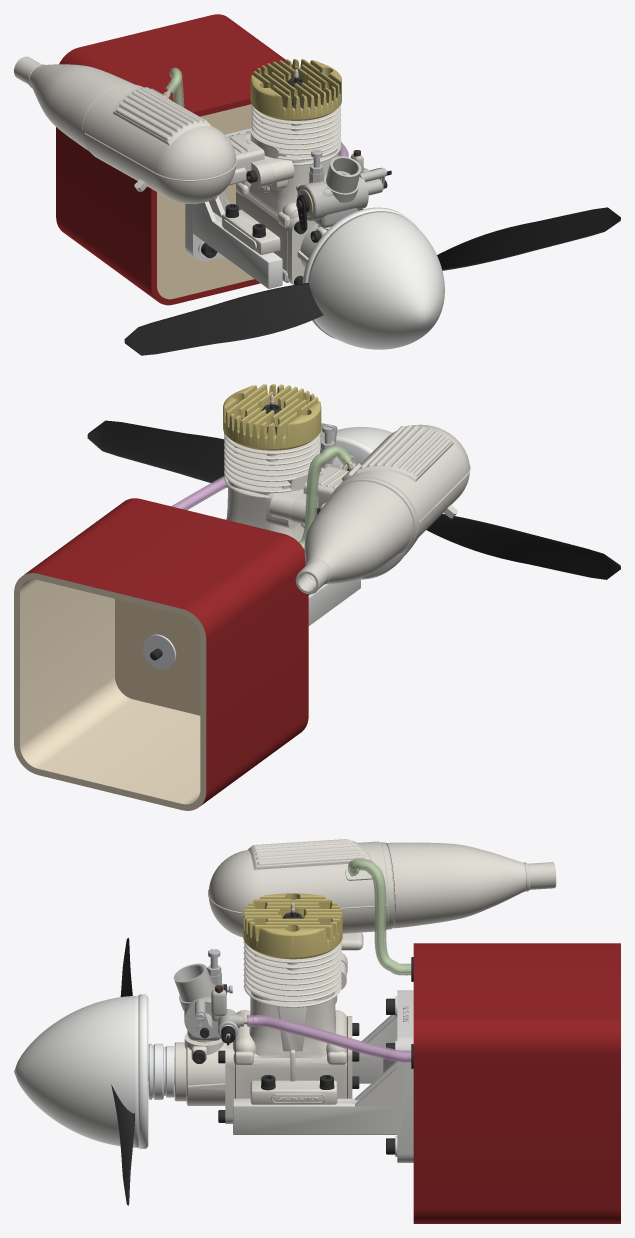
Rendered from glow_engine_61_SE_bancada.glb.
3 renders of one model, top to bottom at view 1: azimuth 30°, elevation 25°; view 2: azimuth 150°, elevation 25°; view 3: azimuth 270°, elevation 25°, orthographic. The views are drawn at different scales.
Visible parts, largest first — view 1: BANC_Fuselaje_Morro, MUF_Can, ENG_Spinner_Cone, ENG_Prop_Blades, BANC_Parallamas_Contrachapado, ENG_Crankcase, ENG_Head, BANC_Bancada_OS905, CARB_Body, ENG_Cylinder_Fins, ENG_Front_Housing, ENG_Spinner_Backplate (+1 smaller); view 2: BANC_Fuselaje_Morro, MUF_Can, ENG_Prop_Blades, BANC_Parallamas_Contrachapado, ENG_Head, ENG_Cylinder_Fins, ENG_Crankcase, BANC_Linea_Presion, BANC_Bancada_OS905, ENG_Spinner_Backplate, BANC_Tuerca_Ciega_M4_4, ENG_Spinner_Cone (+1 smaller); view 3: BANC_Fuselaje_Morro, MUF_Can, ENG_Spinner_Cone, BANC_Bancada_OS905, ENG_Crankcase, ENG_Head, ENG_Cylinder_Fins, ENG_Front_Housing, CARB_Body, BANC_Linea_Combustible, BANC_Linea_Presion, ENG_Spinner_Backplate (+2 smaller).
Part boxes in pixels (left/top/right/bottom): BANC_Fuselaje_Morro: left=56, top=14, right=292, bottom=305; MUF_Can: left=14, top=56, right=274, bottom=204; ENG_Spinner_Cone: left=307, top=211, right=444, bottom=349; ENG_Prop_Blades: left=124, top=207, right=620, bottom=355; BANC_Parallamas_Contrachapado: left=157, top=104, right=254, bottom=299; ENG_Crankcase: left=222, top=132, right=340, bottom=282; ENG_Head: left=250, top=59, right=341, bottom=120; BANC_Bancada_OS905: left=185, top=128, right=282, bottom=288; CARB_Body: left=297, top=153, right=383, bottom=227; ENG_Cylinder_Fins: left=250, top=104, right=341, bottom=160; ENG_Front_Housing: left=285, top=210, right=331, bottom=284; ENG_Spinner_Backplate: left=302, top=207, right=418, bottom=339; BANC_Fuselaje_Morro: left=14, top=498, right=308, bottom=810; MUF_Can: left=290, top=424, right=470, bottom=594; ENG_Prop_Blades: left=87, top=420, right=620, bottom=579; BANC_Parallamas_Contrachapado: left=115, top=599, right=200, bottom=715; ENG_Head: left=223, top=384, right=321, bottom=450; ENG_Cylinder_Fins: left=224, top=433, right=321, bottom=492; ENG_Crankcase: left=224, top=467, right=324, bottom=595; BANC_Linea_Presion: left=299, top=445, right=352, bottom=549; BANC_Bancada_OS905: left=308, top=578, right=360, bottom=625; ENG_Spinner_Backplate: left=335, top=435, right=408, bottom=579; BANC_Tuerca_Ciega_M4_4: left=143, top=634, right=176, bottom=669; ENG_Spinner_Cone: left=336, top=427, right=417, bottom=555; BANC_Fuselaje_Morro: left=413, top=943, right=620, bottom=1223; MUF_Can: left=208, top=839, right=556, bottom=973; ENG_Spinner_Cone: left=14, top=995, right=138, bottom=1147; BANC_Bancada_OS905: left=233, top=990, right=413, bottom=1162; ENG_Crankcase: left=236, top=961, right=347, bottom=1104; ENG_Head: left=243, top=893, right=342, bottom=959; ENG_Cylinder_Fins: left=243, top=941, right=341, bottom=1001; ENG_Front_Housing: left=174, top=1033, right=235, bottom=1123; CARB_Body: left=173, top=963, right=239, bottom=1040; BANC_Linea_Combustible: left=247, top=1015, right=411, bottom=1062; BANC_Linea_Presion: left=347, top=858, right=411, bottom=975; ENG_Spinner_Backplate: left=138, top=994, right=148, bottom=1148.
Bounding box in the file's own units: 0.266 × 0.1332 × 0.259.
